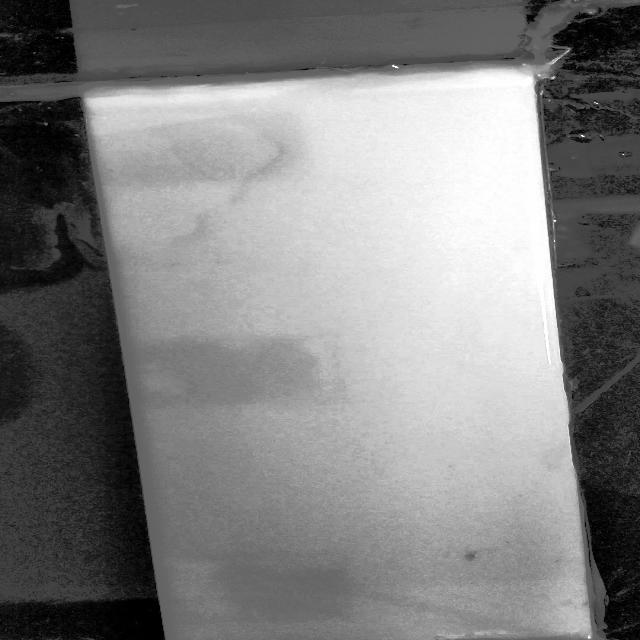shrimp: (459, 547, 489, 563)
